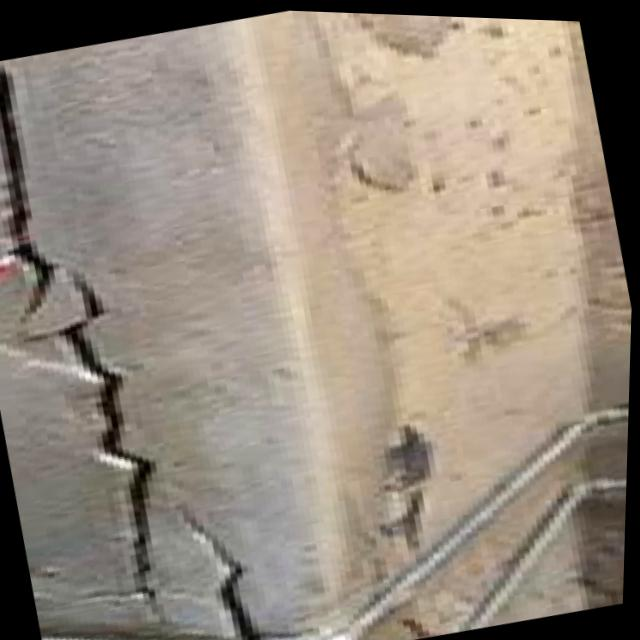Crack: (226, 346, 503, 510), (0, 50, 116, 383), (236, 7, 409, 190), (462, 394, 631, 575), (79, 446, 212, 635), (186, 454, 312, 640), (0, 358, 143, 520)
